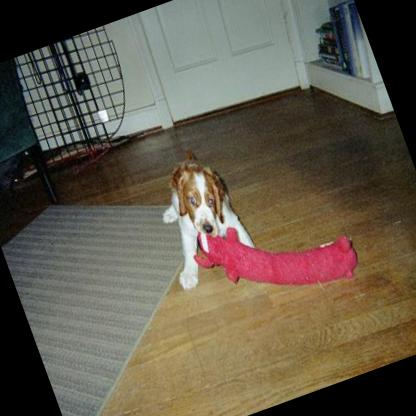Welsh_springer_spaniel: (136, 140, 260, 290)
